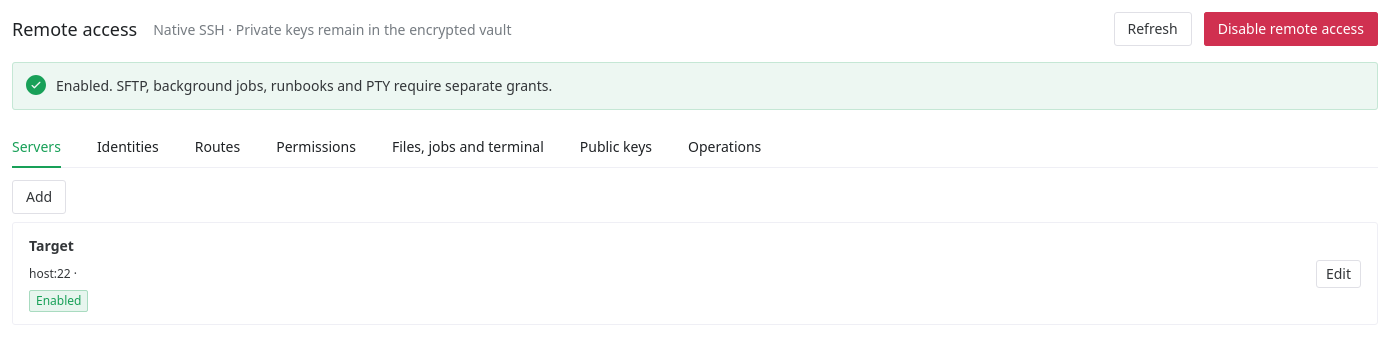
Test: Remote SSH dashboard › shows unknown outcomes without suggesting a retry
Click the element with class "n-tabs-tab" showing "Operations".
click(725, 147)  # box [688,137,761,156]
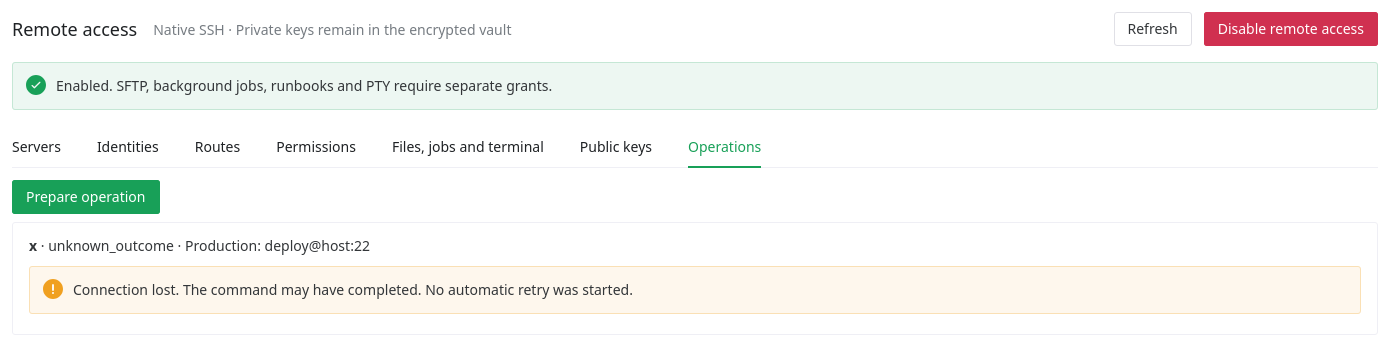
Expected: the text "The command may have completed" is shown, [73,280,633,299]
Expected: the text "No automatic retry" is shown, [73,280,633,299]
